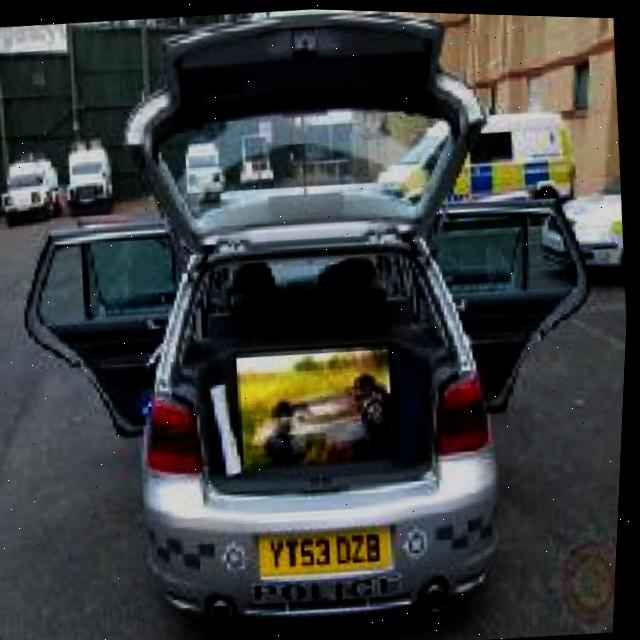emergency: (0, 0, 629, 640)
